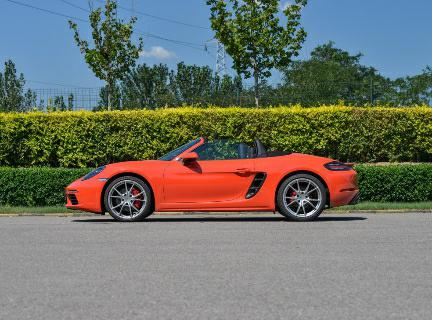保时捷-718: (52, 132, 360, 232)
